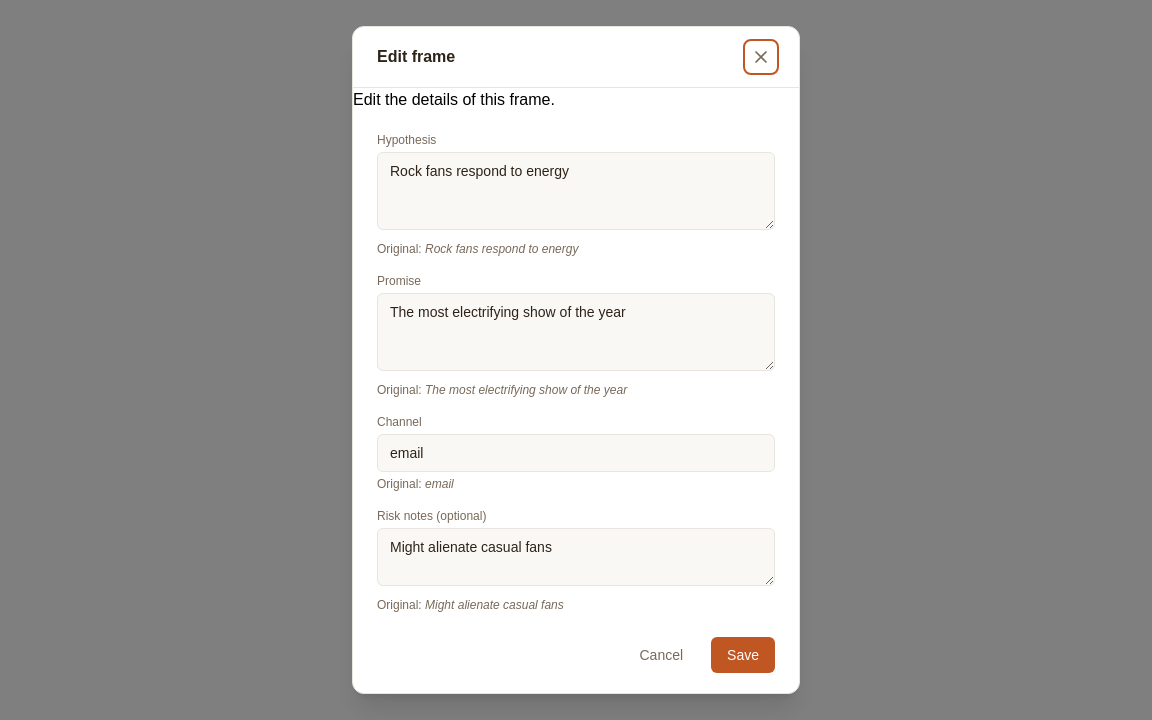
FrameEditModal › form validation › shows error when channel is empty on submit
Clear the field labelled "Channel" at x=576, y=453, box [377, 434, 775, 472]
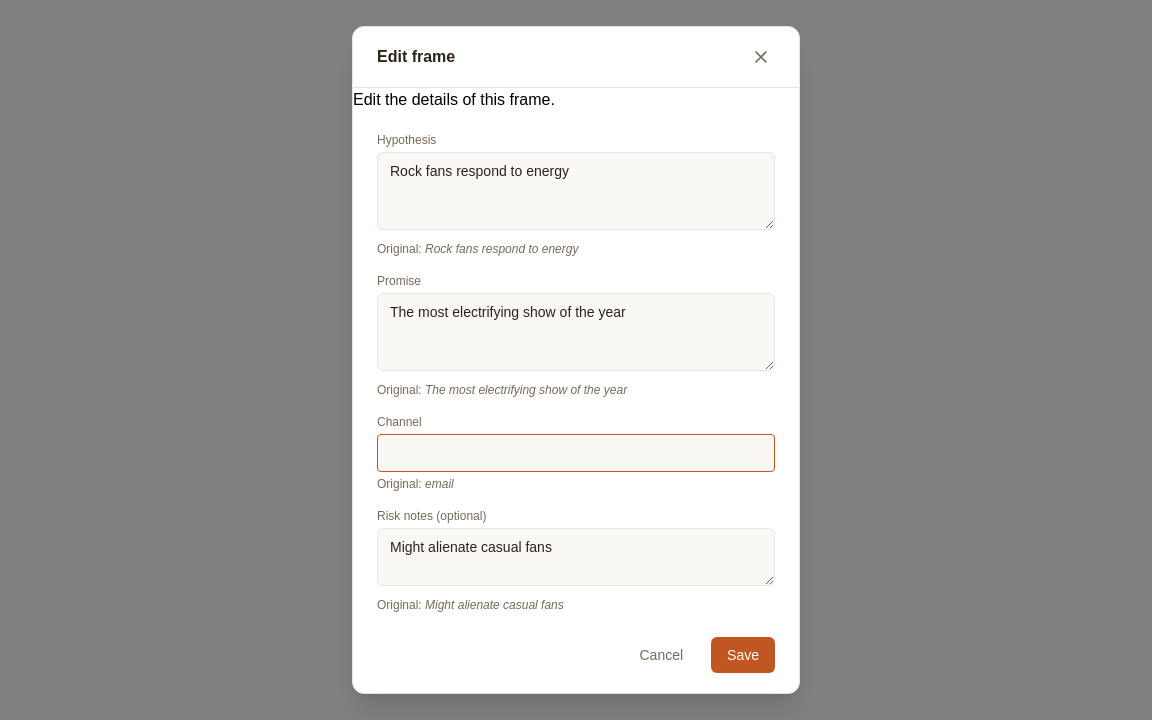
Click the button "Save" at x=743, y=655, box [711, 637, 775, 673]
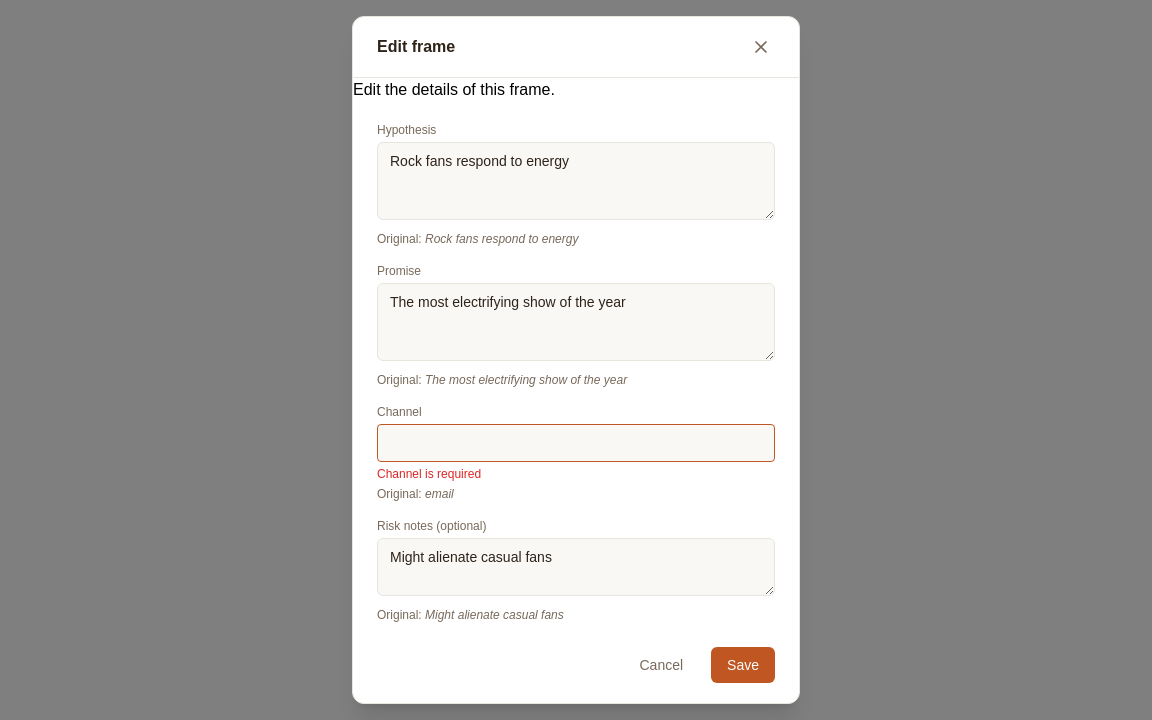
Result: the message reads "Channel is required" at [377, 467, 481, 481]
